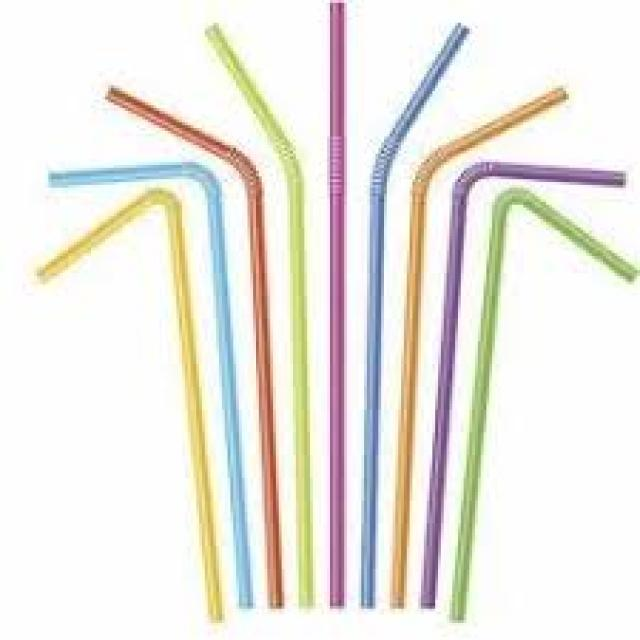straw: (420, 161, 623, 607), (108, 88, 281, 606), (391, 89, 563, 606), (51, 161, 252, 603), (451, 188, 636, 618), (38, 188, 220, 619), (360, 24, 468, 607), (222, 48, 312, 604), (330, 0, 345, 606)
